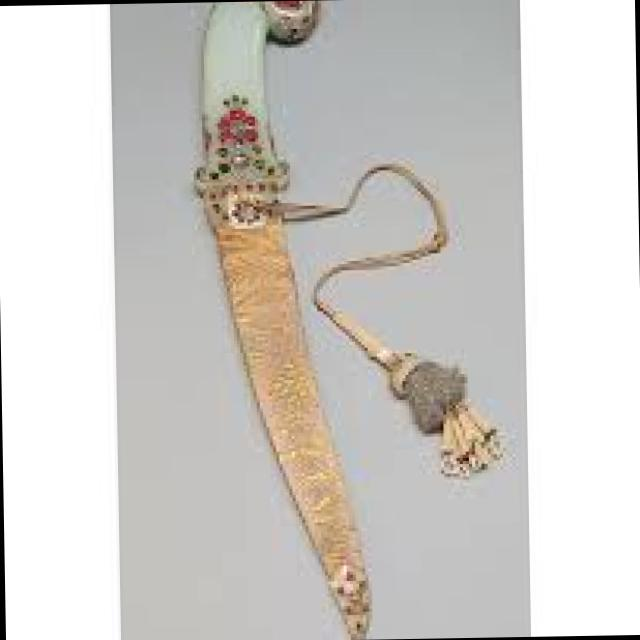Gun: (171, 0, 434, 640)
